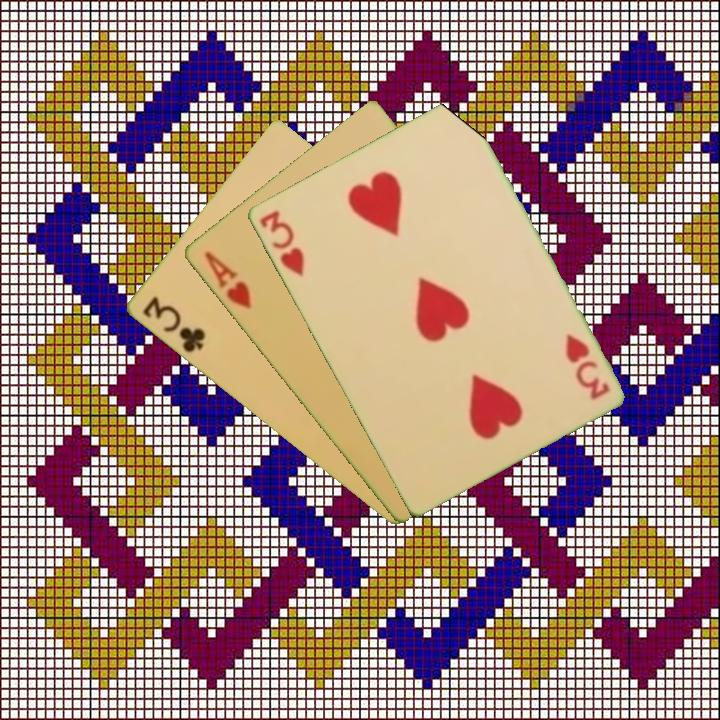3c: (138, 293, 208, 356)
3h: (255, 206, 307, 279), (561, 330, 612, 403)
Ah: (200, 247, 254, 312)
